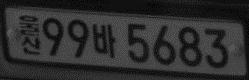3: (204, 27, 229, 69)
5: (126, 22, 150, 64)
6: (152, 24, 176, 66)
8: (178, 26, 203, 66)
9: (42, 16, 64, 57), (67, 18, 89, 58)
바: (91, 23, 116, 58)
울산_V: (18, 13, 41, 56)
